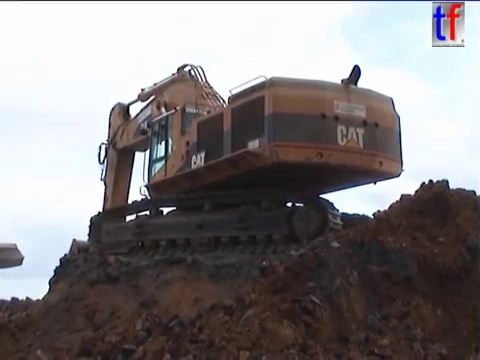excavator: (58, 59, 408, 279)
truck: (1, 241, 26, 273)
